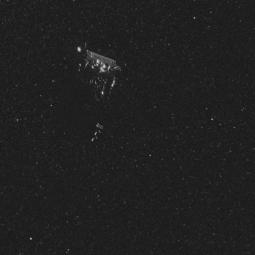lisa_pathfinder: (54, 37, 134, 144)
